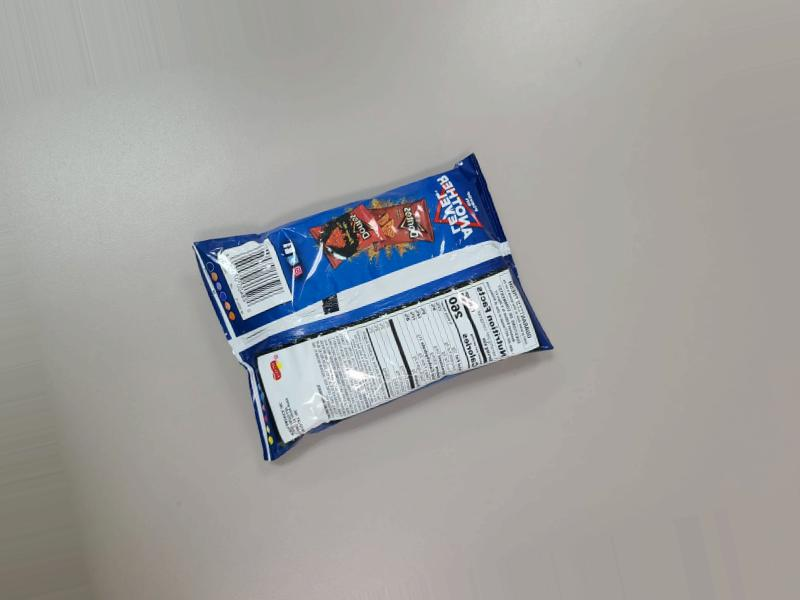doritos: (214, 160, 546, 463)
